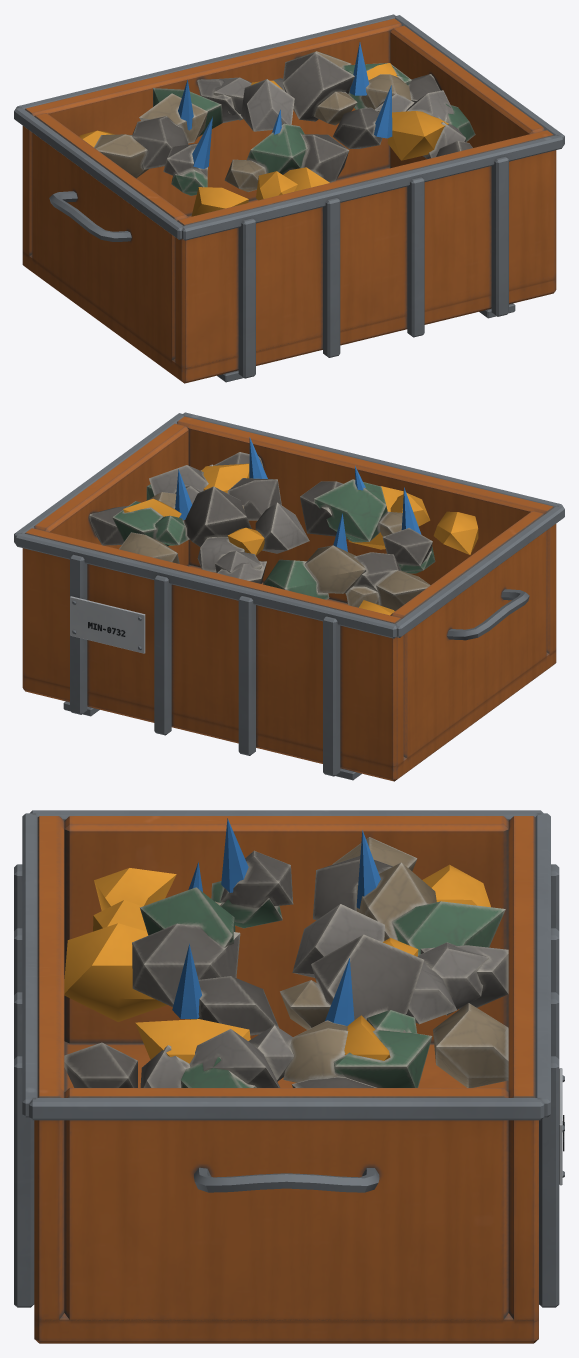
Rendered from deposito_minerales.fbx.
The picture shows the model from 3 angles, top to bottom: view 1: azimuth 30°, elevation 25°; view 2: azimuth 150°, elevation 25°; view 3: azimuth 270°, elevation 25°; orthographic projection. The views are drawn at different scales.
Parts seen in each view (by area): view 1: deposito_minerales; view 2: deposito_minerales; view 3: deposito_minerales.
Part boxes in pixels (box(x1,y1,x2,y2)): deposito_minerales: box(14, 14, 564, 383); deposito_minerales: box(14, 412, 564, 781); deposito_minerales: box(14, 810, 564, 1343).
Size of the model in its own units: 4.69 by 2.15 by 3.27.
Materials: 2 (1 with a texture image).
